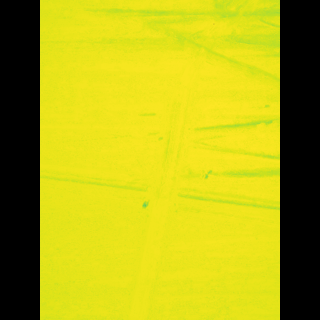Loch: (129, 35, 197, 320), (69, 0, 250, 91), (68, 156, 250, 231), (185, 0, 239, 45)
